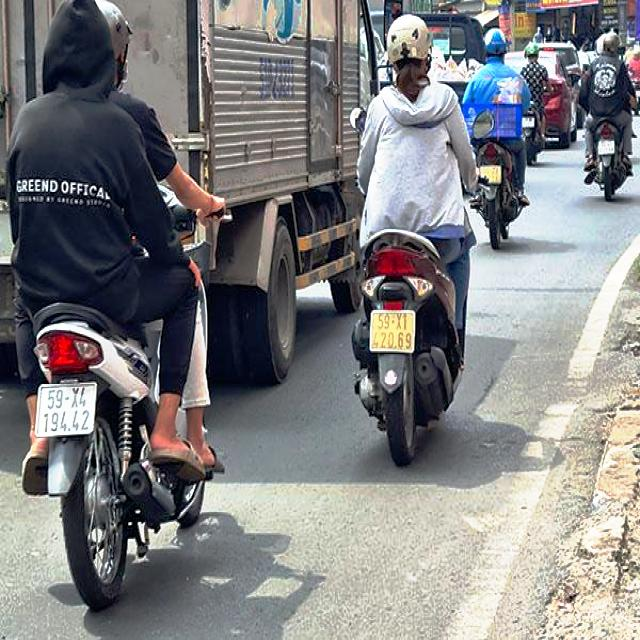license_plate: (38, 384, 97, 437), (372, 312, 415, 352)
